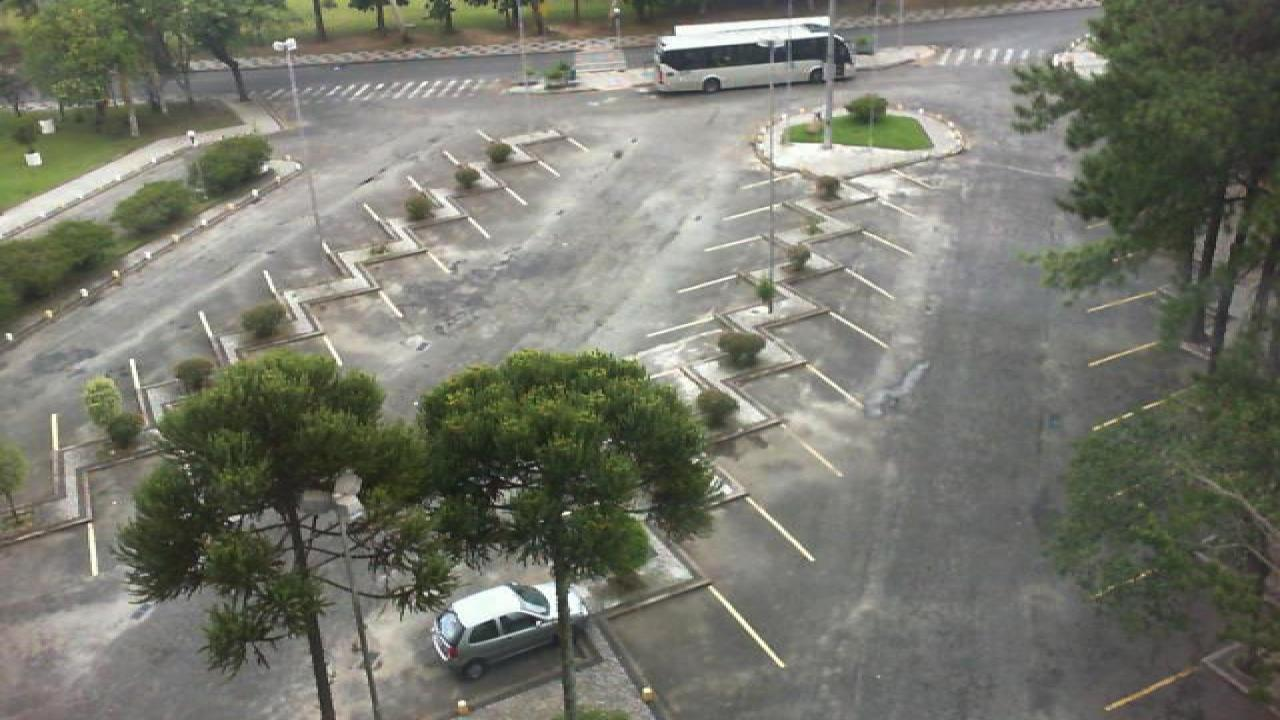Car: (428, 582, 592, 680)
